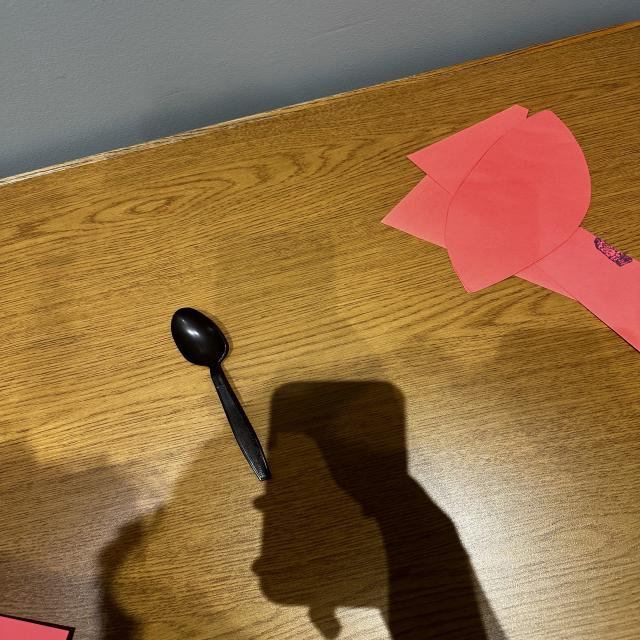spoon: (148, 292, 310, 495)
